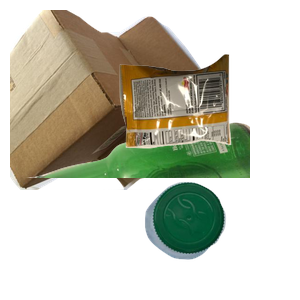cardboard: (10, 10, 206, 190)
glass: (23, 120, 263, 300)
plastic: (142, 179, 300, 300)
trash: (117, 52, 300, 193)
